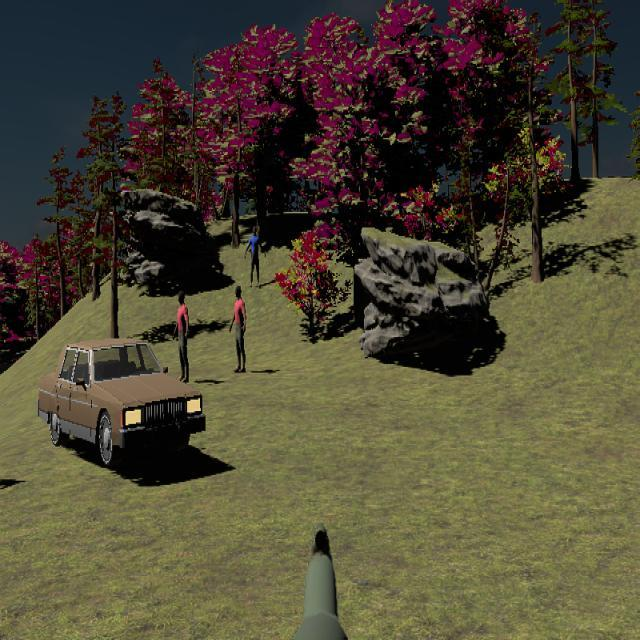Human: (173, 290, 190, 383), (229, 285, 246, 373), (245, 225, 266, 288)
car: (37, 339, 207, 466)
